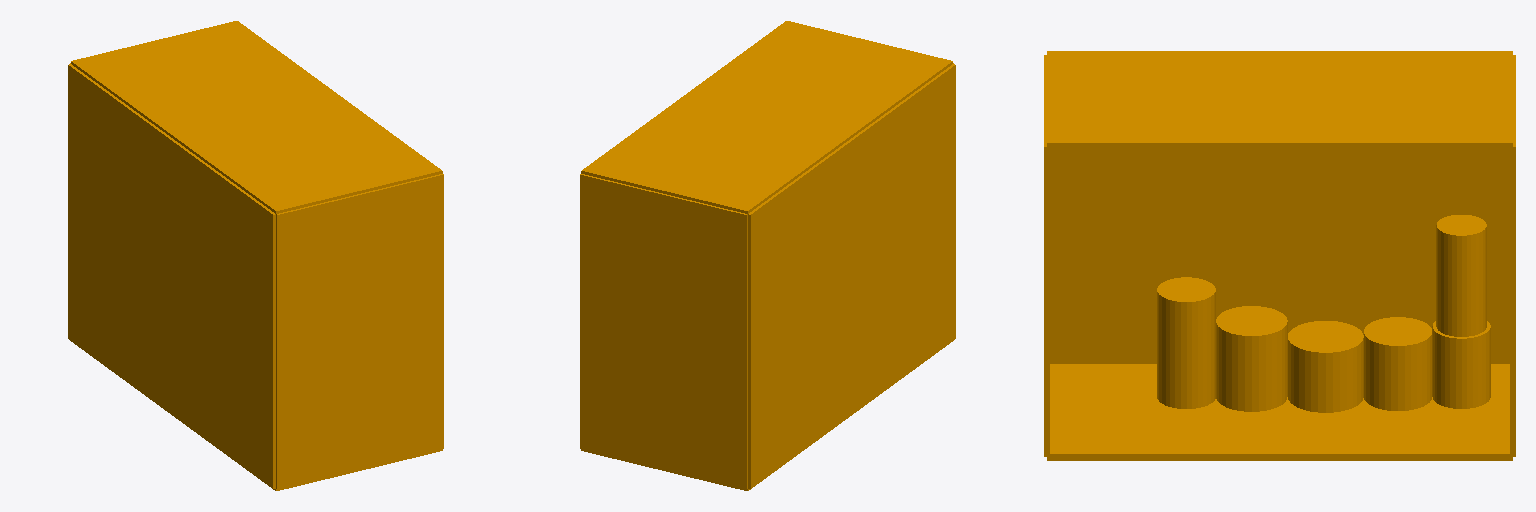
The robot description file, URDF, robot "syn_can_cabinet_packed_nonuniform_44":
<?xml version="1.0" ?>
<robot name="syn_can_cabinet_packed_nonuniform_44">
    <link concave="yes" name="base_link">
        <inertial>
            <origin rpy="0 0 0" xyz="0 0 0"/>
            <mass value="0.0"/>
            <inertia ixx="1e-08" ixy="0" ixz="0" iyy="1e-08" iyz="0" izz="1e-08"/>
        </inertial>
        <visual>
            <origin xyz="0 0 0" rpy="0 0 0" />
            <geometry>
                <mesh filename="syn_can_cabinet_packed_nonuniform_44.obj" scale="1.000000 1.000000 1.000000"/>
            </geometry>         
        </visual>

        <collision concave="yes">
            <origin xyz="0 0 0" rpy="0 0 0"/>
            <geometry>
                <mesh filename="syn_can_cabinet_packed_nonuniform_44.obj" scale="1.000000 1.000000 1.000000"/>
            </geometry>
        </collision>
    </link>
</robot>
    

--- Render facts (derived) ---
Views: 3 orthographic renders of the robot side by side, from view 1: azimuth 30°, elevation 25°; view 2: azimuth 150°, elevation 25°; view 3: azimuth 270°, elevation 25°.
Model syn_can_cabinet_packed_nonuniform_44 with 1 links and 0 joints (none), rooted at base_link, posed all joints at 0.
Visible links, largest first — view 1: base_link; view 2: base_link; view 3: base_link.
Boxes of the visible links, x1,y1,x2,y2 form: base_link: (68, 21, 443, 490); base_link: (580, 21, 955, 490); base_link: (1044, 51, 1515, 460).
Size in the robot's own frame: 0.1815 by 0.3862 by 0.2872 metres.
1 mesh visuals loaded from 1 distinct referenced files (1 OBJ).
